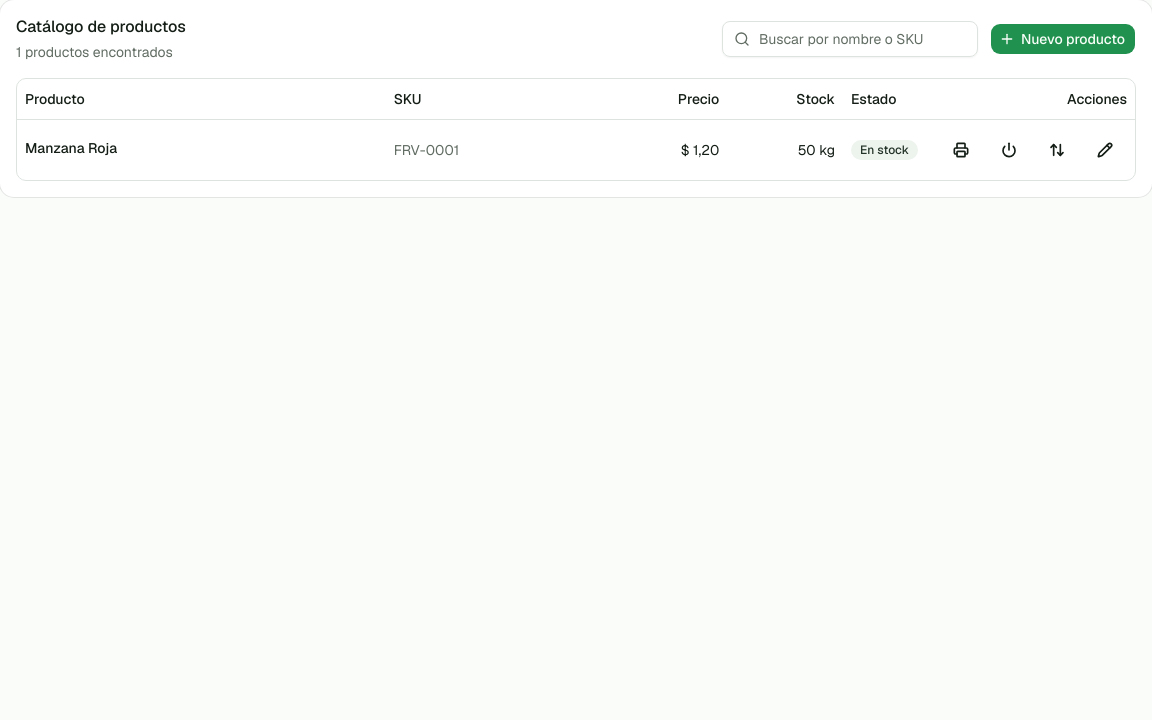
Scenario: ProductsTable › does not render a category column and opens the edit dialog prefilled
The image size is (1152, 720).
Click the button named "Editar Manzana Roja" at (1105, 150), box x1=1083 y1=128 x2=1127 y2=172
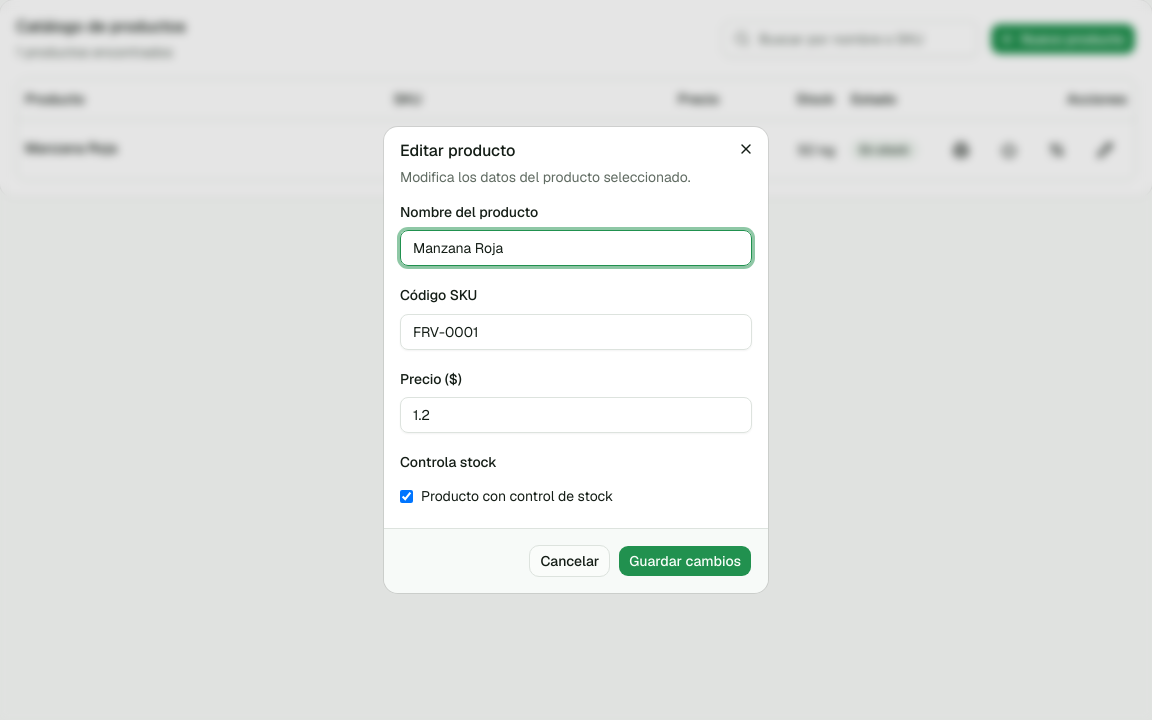
Check: the dialog is shown, box x1=384 y1=127 x2=768 y2=593
Check: the heading "Editar producto" is shown, box x1=400 y1=140 x2=515 y2=161
Check: the field labelled "Nombre del producto" holds "Manzana Roja", box x1=400 y1=230 x2=752 y2=266
